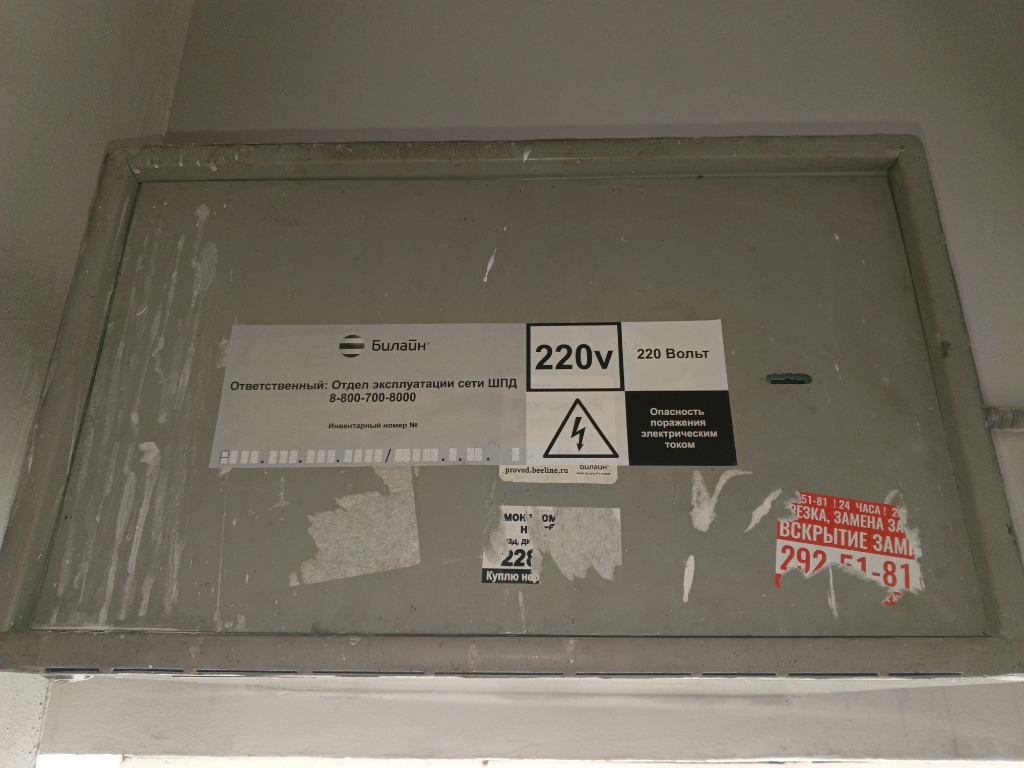e2-6u: (3, 131, 1020, 681)
